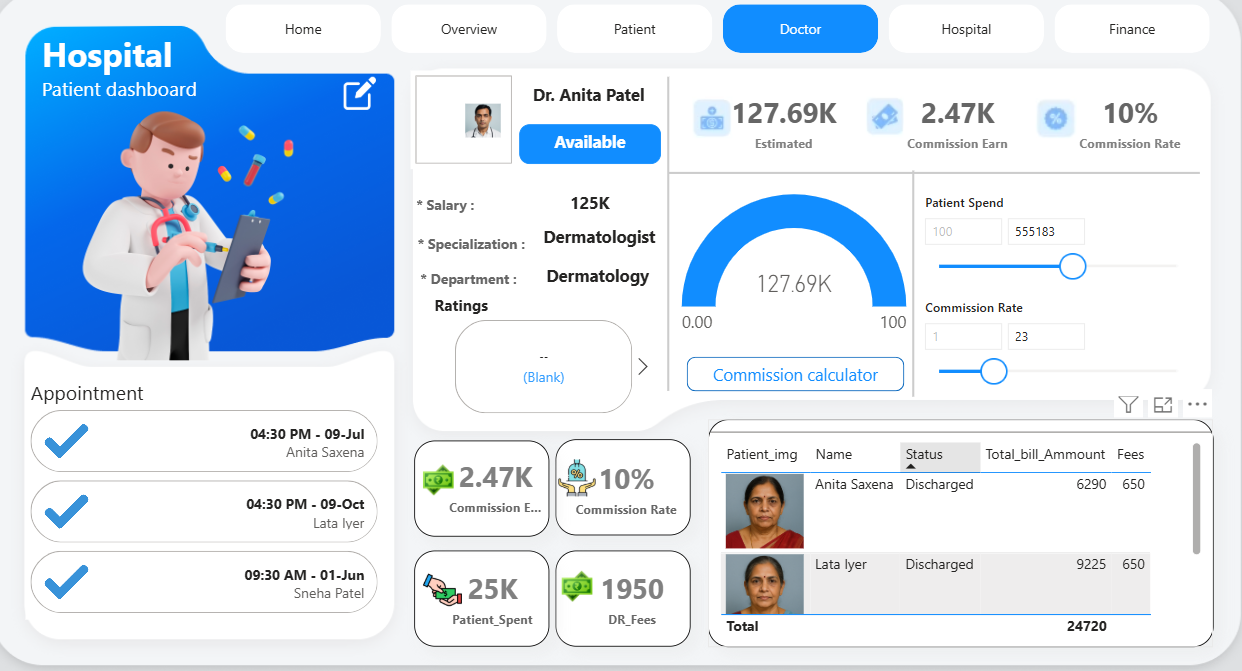

The dashboard page shown, as its layout file describes it:
{"tool":"powerbi","page":{"name":"Doctor","canvas":[1280,720],"ordinal":3},"visuals":[{"type":"shape","box":[581.7,571.7,130,93],"z":0},{"type":"shape","box":[444.8,572.4,130,93],"z":1000},{"type":"image","box":[90.7,128.5,279.7,264.6],"z":2000},{"type":"textbox","box":[81.3,66.1,360.9,85],"z":3000},{"type":"image","box":[342,109.6,100.2,41.6],"z":4000},{"type":"card","fields":{"Values":["_Measures.Total_bill_Ammount"]},"box":[459.7,571,122.5,93.8],"z":5000},{"type":"card","fields":{"Values":["_Measures.DR_Fees"]},"box":[598.1,571,114.5,93.8],"z":6000},{"type":"shape","box":[581.7,465,130,93],"z":7000},{"type":"shape","box":[444.8,465.8,130,93],"z":8000},{"type":"card","fields":{"Values":["_Measures.Dr_Commition_Amt"]},"box":[472.4,464.5,101.8,90.7],"z":9000},{"type":"card","fields":{"Values":["_Measures.Dr_Commition%"]},"box":[591.7,466,117.7,92.3],"z":10000},{"type":"cardVisual","fields":{"Data":["Min(patient.Doctor.Img)"]},"box":[441.7,108.3,103.3,95],"z":11000},{"type":"card","fields":{"Values":["Min(patient.Doctor.name)"]},"box":[545,115,136.7,38.3],"z":12000},{"type":"card","fields":{"Values":["Min(patient.Doctor.availability)"]},"box":[546.7,160,136.7,38.3],"z":13000},{"type":"shape","box":[445,221.7,85,30],"z":14000},{"type":"shape","box":[446.7,260,113.3,28.3],"z":15000},{"type":"shape","box":[448.3,293.3,98.3,31.7],"z":16000},{"type":"card","fields":{"Values":["Min(patient.Doctor.salary)"]},"box":[540,223.3,148.3,30],"z":17000},{"type":"card","fields":{"Values":["Min(patient.Doctor.specialization)"]},"box":[560,253.3,128.3,35],"z":18000},{"type":"card","fields":{"Values":["Min(patient.Doctor.department)"]},"box":[546.7,293.3,151.7,31.7],"z":19000},{"type":"advancedSlicerVisual","title":"Appointment","fields":{"Values":["Appointment.Appointment_Date_time"]},"box":[70,406.7,345,231.7],"z":21000},{"type":"advancedSlicerVisual","title":"Ratings","fields":{"Values":["patient.feedback"]},"box":[460,325,221.7,120],"z":22000},{"type":"tableEx","fields":{"Values":["patient.Img","patient.name","patient.status","_Measures.Total_bill_Ammount","Appointment.fees"]},"box":[728.3,445,488.3,220],"z":23000},{"type":"slicer","fields":{"Values":["Estimate_Pt_amt.Estimate_Pt_amt"]},"box":[925,223.3,278.3,91.7],"z":24000},{"type":"slicer","fields":{"Values":["Est_commission_rate.Est_commission_rate"]},"box":[925,325,278.3,98.3],"z":25000},{"type":"gauge","fields":{"Y":["_Measures.Estimate_Commission"],"MaxValue":["_Measures.Target"]},"box":[698.3,223.3,226.7,150],"z":26000},{"type":"card","fields":{"Values":["_Measures.Dr_Commition_Amt"]},"box":[906.7,113.3,125,90],"z":27000},{"type":"card","fields":{"Values":["_Measures.Dr_Commition%"]},"box":[1073.3,113.3,125,90],"z":28000},{"type":"card","fields":{"Values":["_Measures.Estimate_Commission"]},"box":[740,113.3,125,90],"z":29000},{"type":"shape","box":[708.3,385,210,33.3],"z":30000},{"type":"shape","box":[690,175,513.3,65],"z":31000},{"type":"shape","box":[671.7,115,36.7,303.3],"z":32000},{"type":"shape","box":[908.3,205,36.7,218.3],"z":33000},{"type":"image","box":[708.3,129,50,50],"z":34000},{"type":"image","box":[1040,129,50,50],"z":35000},{"type":"image","box":[874.5,129.3,49.3,49.3],"z":36000},{"type":"pageNavigator","box":[262.5,44.5,956,47.7],"z":37000},{"type":"image","box":[449.1,579.5,47.7,62],"z":38000},{"type":"image","box":[582.2,575.8,39.8,62],"z":39000},{"type":"image","box":[448.6,472.4,39.8,62],"z":40000},{"type":"image","box":[567.8,478.8,68.4,46.1],"z":41000}]}

Visuals, with their boxes on the page's 1280x720 design canvas (x1, y1, x2, y2). These are canvas units, not pixel positions in the 1242x671 screenshot, which may show the page scaled, cropped or inside an application window:
shape: BBox(582, 572, 712, 665)
shape: BBox(445, 572, 575, 665)
image: BBox(91, 128, 370, 393)
textbox: BBox(81, 66, 442, 151)
image: BBox(342, 110, 442, 151)
card - _Measures.Total_bill_Ammount: BBox(460, 571, 582, 665)
card - _Measures.DR_Fees: BBox(598, 571, 713, 665)
shape: BBox(582, 465, 712, 558)
shape: BBox(445, 466, 575, 559)
card - _Measures.Dr_Commition_Amt: BBox(472, 464, 574, 555)
card - _Measures.Dr_Commition%: BBox(592, 466, 709, 558)
cardVisual - Min(patient.Doctor.Img): BBox(442, 108, 545, 203)
card - Min(patient.Doctor.name): BBox(545, 115, 682, 153)
card - Min(patient.Doctor.availability): BBox(547, 160, 683, 198)
shape: BBox(445, 222, 530, 252)
shape: BBox(447, 260, 560, 288)
shape: BBox(448, 293, 547, 325)
card - Min(patient.Doctor.salary): BBox(540, 223, 688, 253)
card - Min(patient.Doctor.specialization): BBox(560, 253, 688, 288)
card - Min(patient.Doctor.department): BBox(547, 293, 698, 325)
"Appointment" advancedSlicerVisual: BBox(70, 407, 415, 638)
"Ratings" advancedSlicerVisual: BBox(460, 325, 682, 445)
tableEx - patient.Img x patient.name: BBox(728, 445, 1217, 665)
slicer - Estimate_Pt_amt.Estimate_Pt_amt: BBox(925, 223, 1203, 315)
slicer - Est_commission_rate.Est_commission_rate: BBox(925, 325, 1203, 423)
gauge - _Measures.Estimate_Commission x _Measures.Target: BBox(698, 223, 925, 373)
card - _Measures.Dr_Commition_Amt: BBox(907, 113, 1032, 203)
card - _Measures.Dr_Commition%: BBox(1073, 113, 1198, 203)
card - _Measures.Estimate_Commission: BBox(740, 113, 865, 203)
shape: BBox(708, 385, 918, 418)
shape: BBox(690, 175, 1203, 240)
shape: BBox(672, 115, 708, 418)
shape: BBox(908, 205, 945, 423)
image: BBox(708, 129, 758, 179)
image: BBox(1040, 129, 1090, 179)
image: BBox(874, 129, 924, 179)
pageNavigator: BBox(262, 44, 1218, 92)
image: BBox(449, 580, 497, 642)
image: BBox(582, 576, 622, 638)
image: BBox(449, 472, 488, 534)
image: BBox(568, 479, 636, 525)
